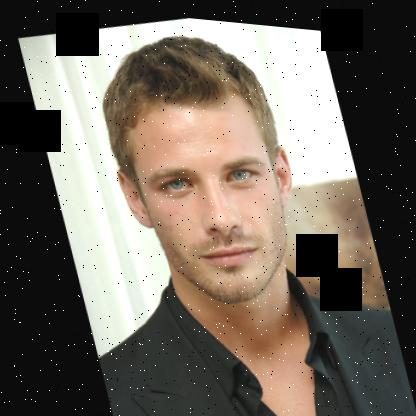Male: (95, 64, 318, 323)
